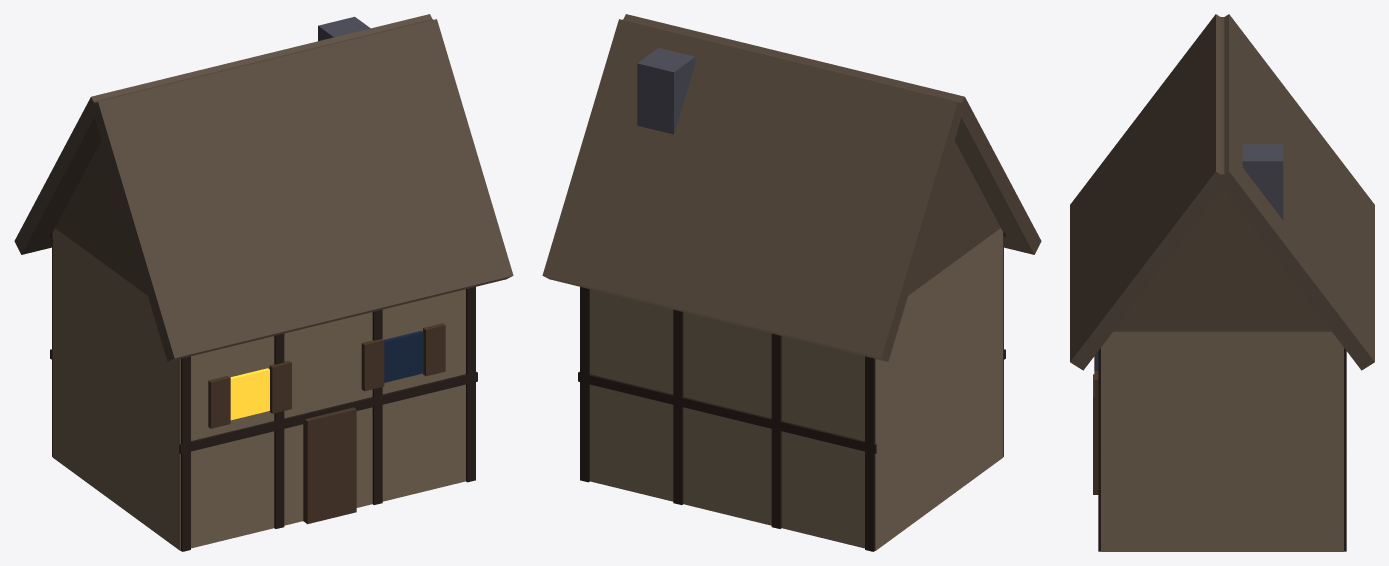
File: cottage.glb
3 renders of one model, left to right at view 1: azimuth 30°, elevation 25°; view 2: azimuth 150°, elevation 25°; view 3: azimuth 270°, elevation 25°, orthographic. The views are drawn at different scales.
Visible parts, largest first — view 1: cottage; view 2: cottage; view 3: cottage.
Boxes of the visible parts, bbox=[...] form: cottage: bbox=[14, 14, 513, 551]; cottage: bbox=[542, 14, 1041, 551]; cottage: bbox=[1070, 14, 1374, 551].
Size of the model in its own units: 2.76 by 3.19 by 2.26.
